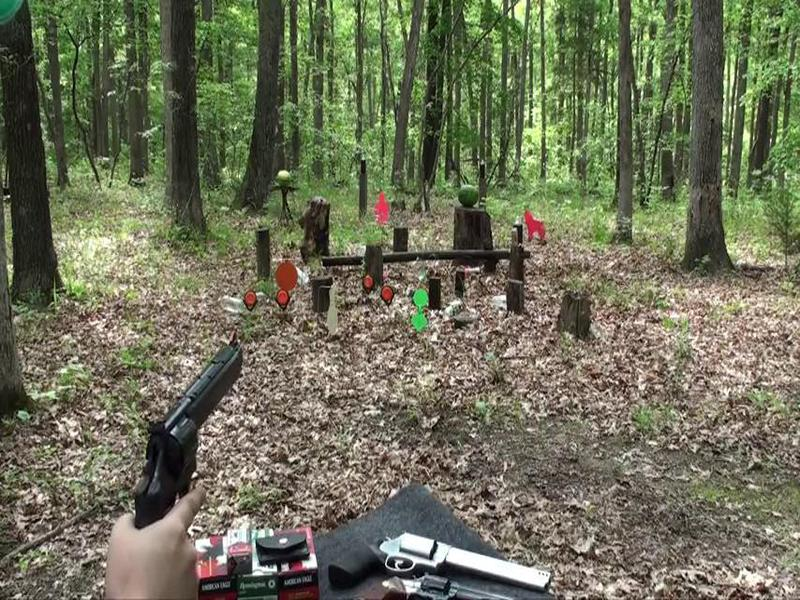Revolver: (120, 338, 258, 541)
